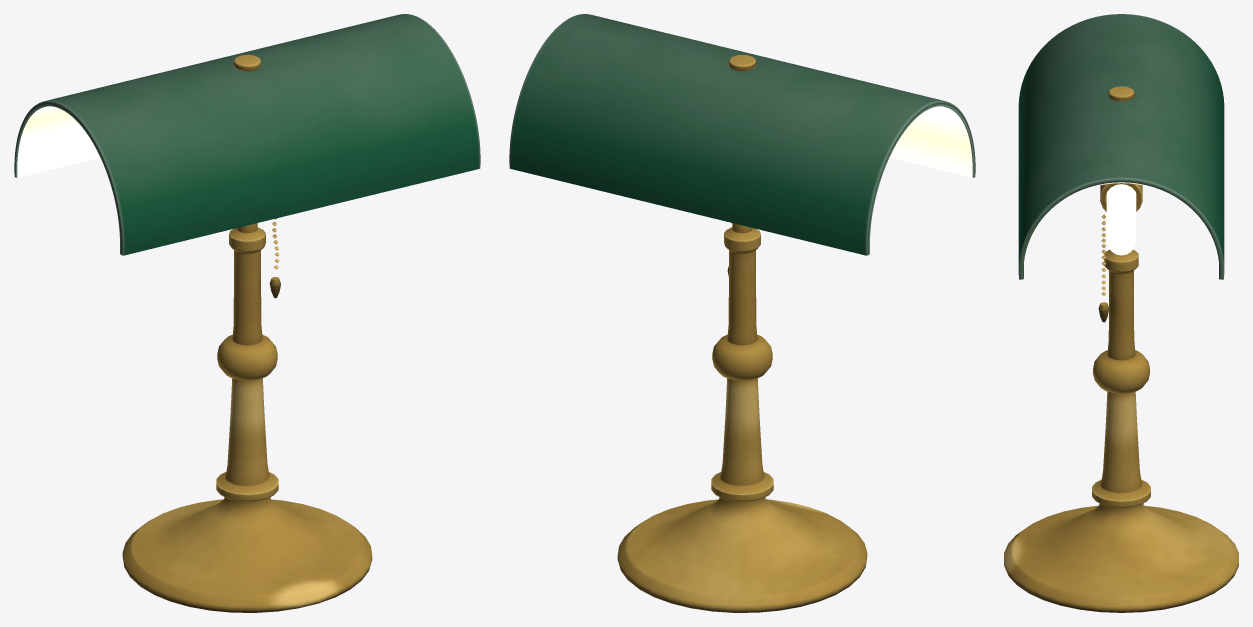
The model's file is banker-lamp.glb.
3 views of the same model, side by side, from view 1: azimuth 30°, elevation 25°; view 2: azimuth 150°, elevation 25°; view 3: azimuth 270°, elevation 25° (orthographic). The views are drawn at different scales.
Parts seen in each view (by area): view 1: shade, lamp_body, shade_glow; view 2: shade, lamp_body, shade_glow; view 3: shade, lamp_body, bulb, shade_glow, pull_chain.
Part boxes in pixels (x1,y1,x2,y2): shade: (14,14,480,255); lamp_body: (122,55,372,612); shade_glow: (17,106,100,177); shade: (509,14,975,255); lamp_body: (617,55,867,612); shade_glow: (889,106,972,177); shade: (1018,14,1224,279); lamp_body: (1004,86,1238,612); bulb: (1106,184,1136,255); shade_glow: (1024,182,1218,272); pull_chain: (1098,215,1108,322).
Size of the model in its own units: 0.3 by 0.4016 by 0.1802.
3 materials, 1 textured.
